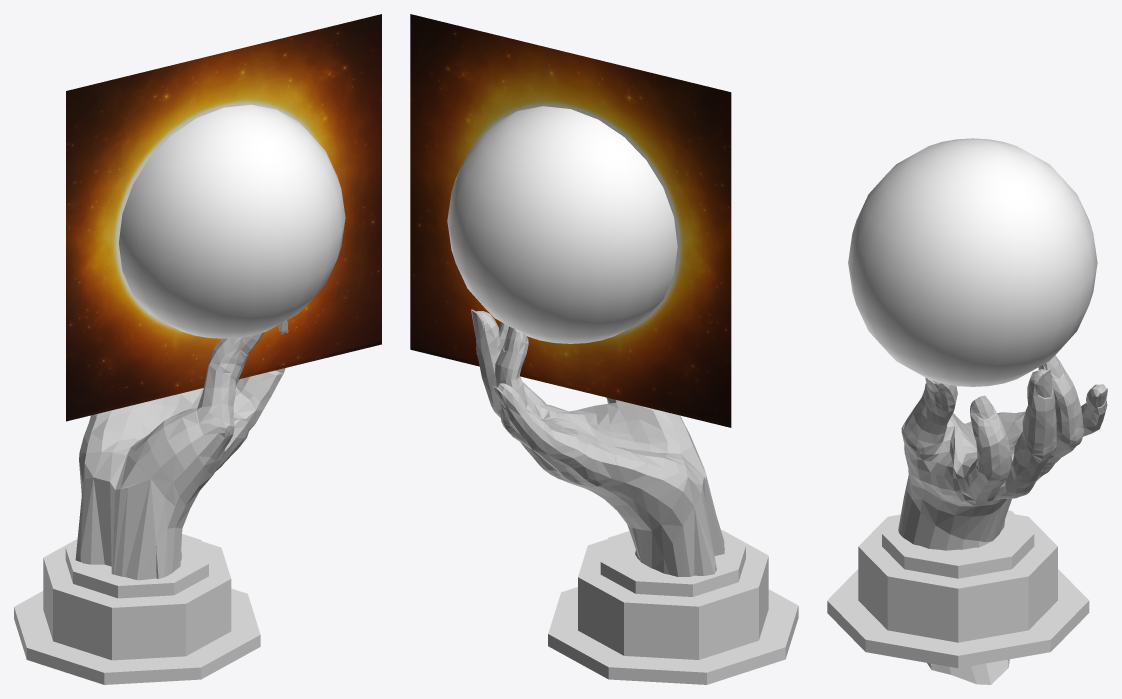
The model's file is hand.fbx.
3 renders of one model, left to right at view 1: azimuth 30°, elevation 25°; view 2: azimuth 150°, elevation 25°; view 3: azimuth 270°, elevation 25°, orthographic. The views are drawn at different scales.
Parts seen in each view (by area): view 1: Plane, Sphere, SketchUp_2, Cylinder_1, Cylinder_2, Cylinder; view 2: Plane, Sphere, SketchUp_2, Cylinder_1, Cylinder_2, Cylinder; view 3: Sphere, SketchUp_2, Cylinder_1, Cylinder_2, Cylinder.
Part boxes in pixels (bbox=[...]): Plane: bbox=[66, 14, 381, 421]; Sphere: bbox=[118, 104, 345, 338]; SketchUp_2: bbox=[75, 320, 288, 580]; Cylinder_1: bbox=[43, 539, 231, 660]; Cylinder_2: bbox=[14, 588, 260, 684]; Cylinder: bbox=[65, 534, 208, 598]; Plane: bbox=[410, 14, 731, 427]; Sphere: bbox=[447, 106, 677, 343]; SketchUp_2: bbox=[471, 309, 724, 576]; Cylinder_1: bbox=[578, 530, 768, 659]; Cylinder_2: bbox=[548, 587, 798, 684]; Cylinder: bbox=[600, 531, 745, 596]; Sphere: bbox=[848, 138, 1097, 386]; SketchUp_2: bbox=[898, 355, 1107, 684]; Cylinder_1: bbox=[858, 514, 1057, 642]; Cylinder_2: bbox=[827, 569, 1089, 668]; Cylinder: bbox=[882, 510, 1034, 578].
Bounding box in the file's own units: 136 × 211 × 88.56.
Materials: 3 (1 with a texture image).
